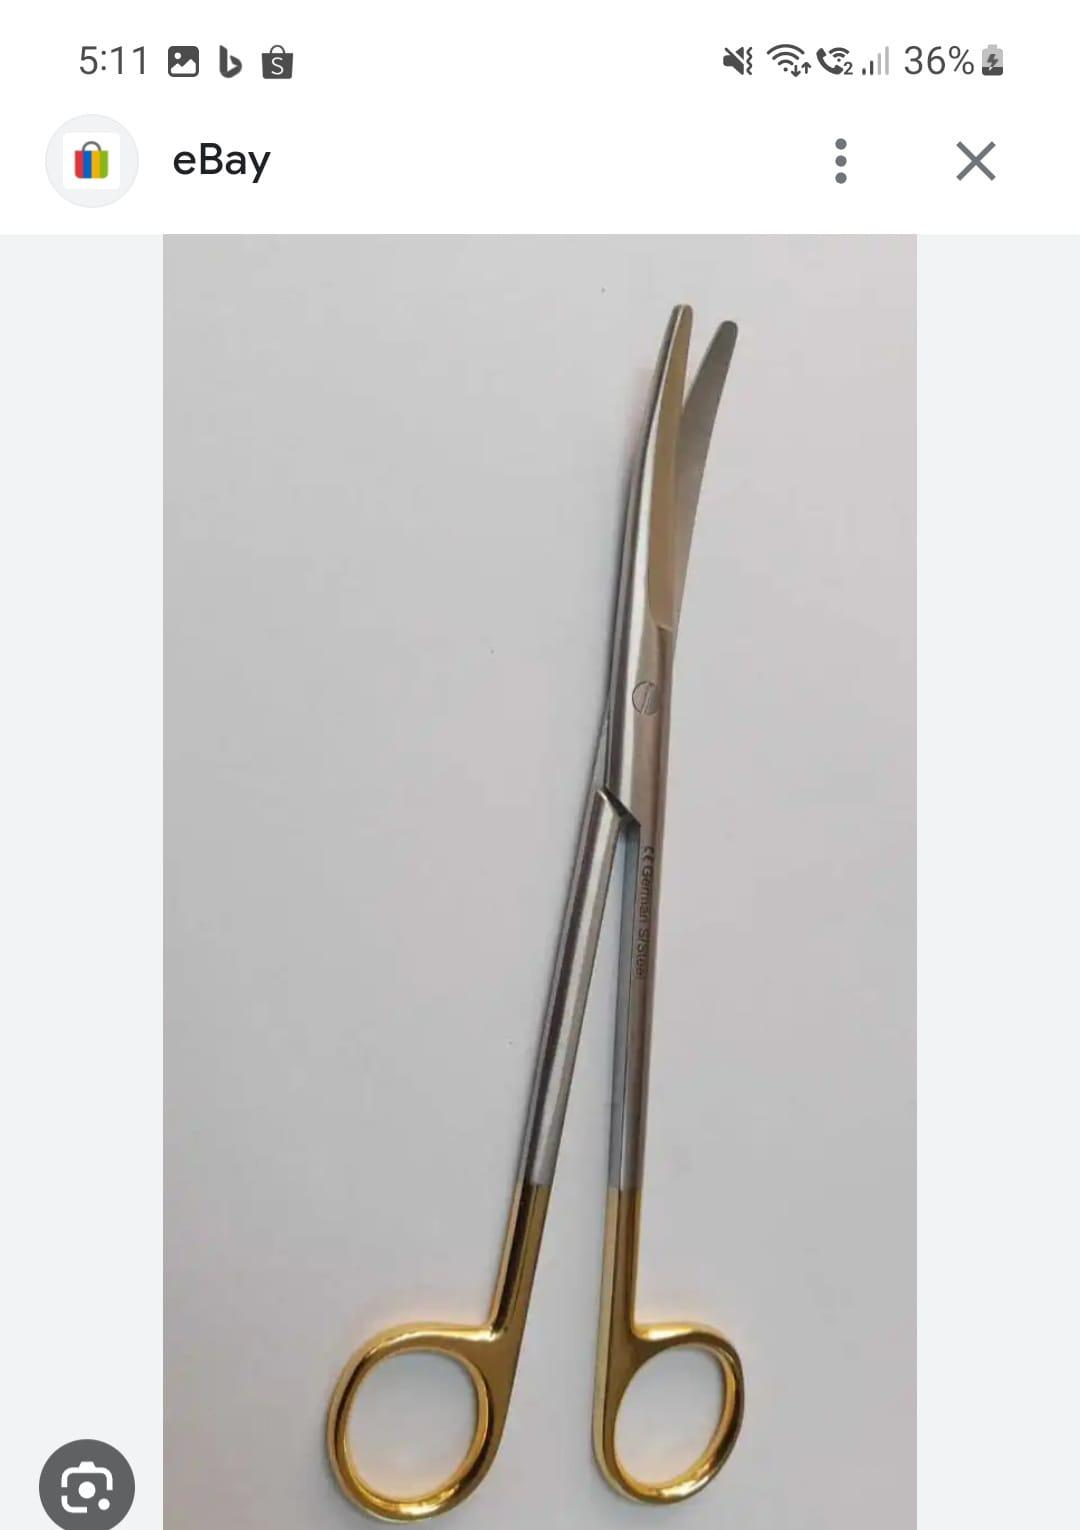Curved Mayo: (320, 265, 770, 1515)
